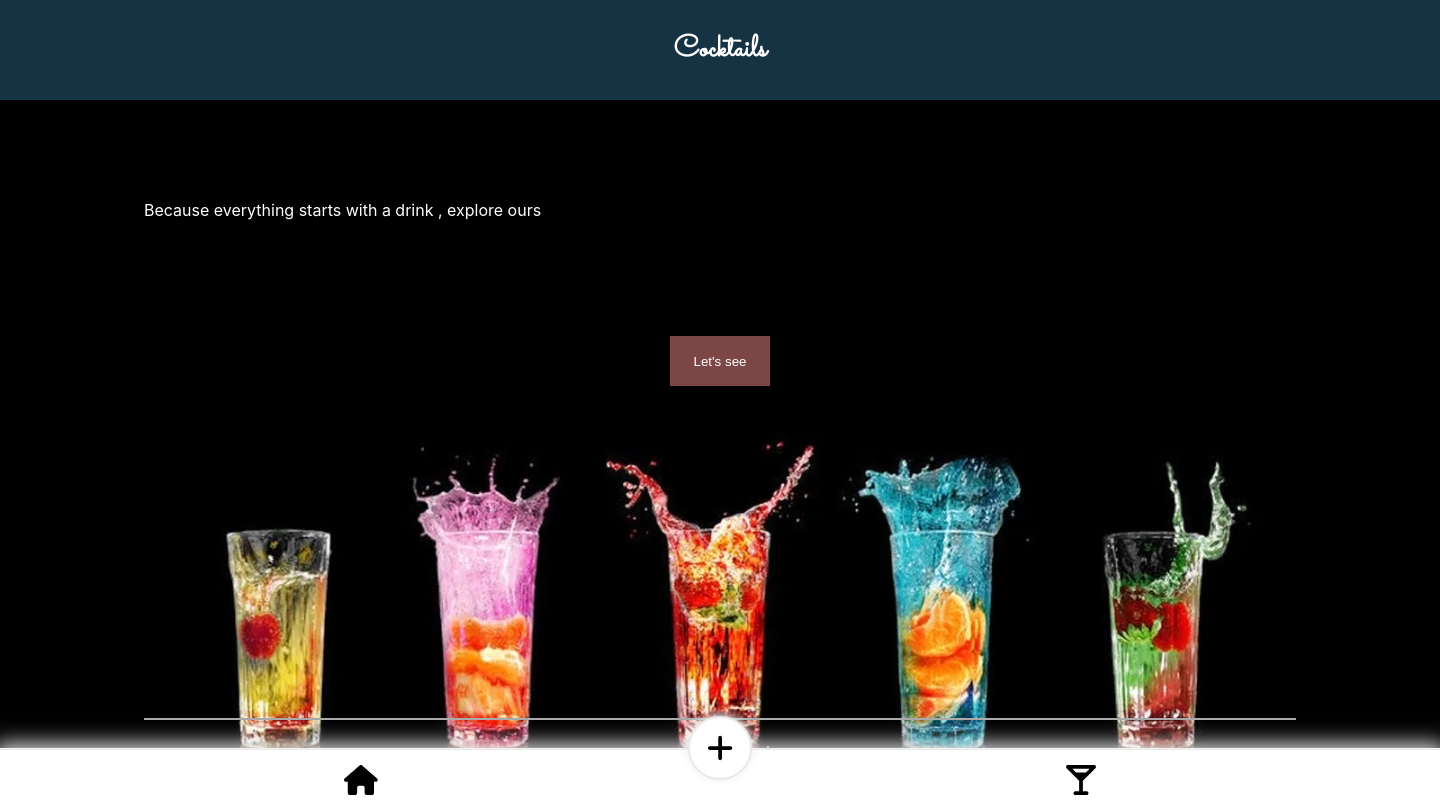
Test: Given App component › When the user taps at 'My Bar' link › Then it should be rendered 'My Bar' heading in the page
This screenshot has width=1440, height=810.
Click the 3rd link named "My Bar": (1081, 785) [1066, 775, 1096, 795]
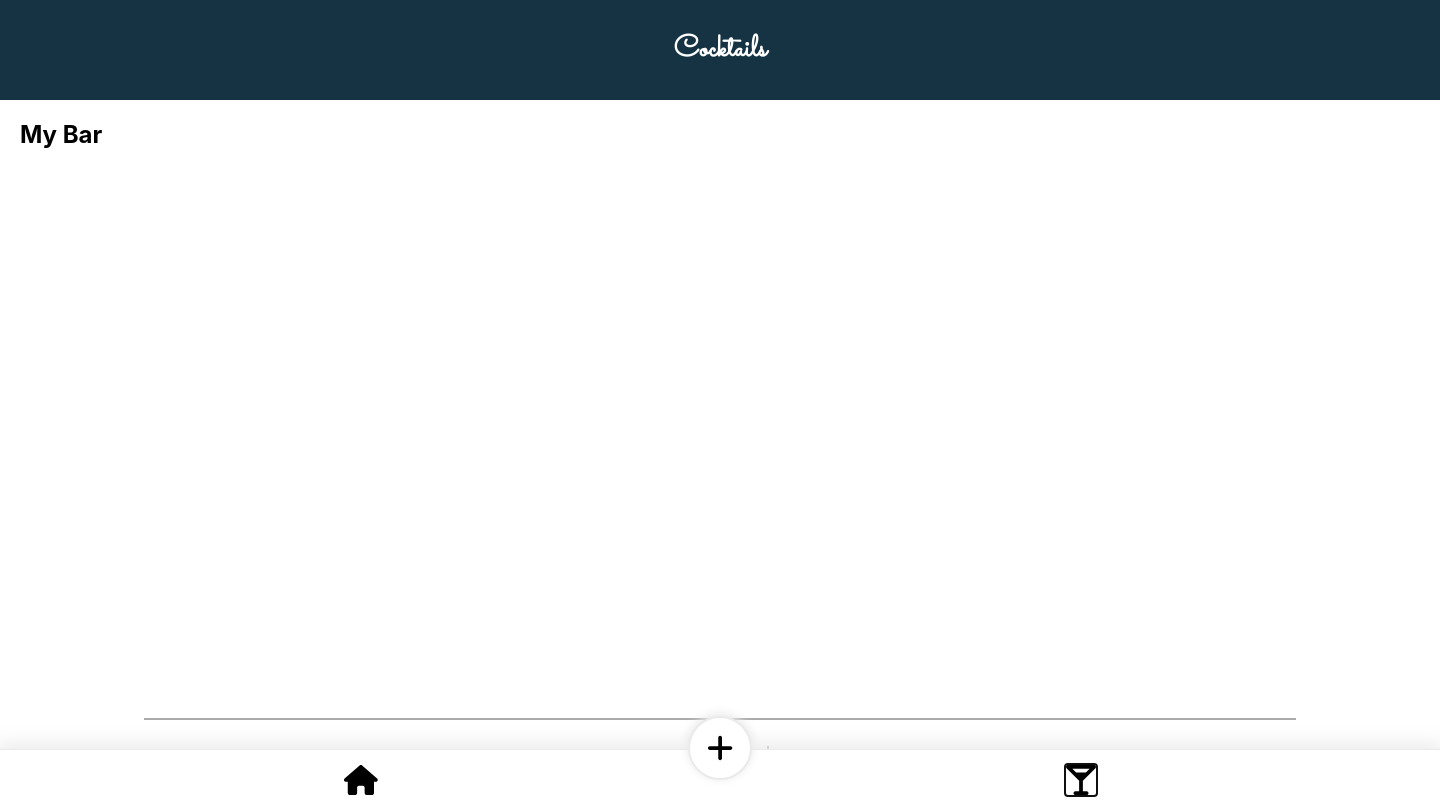
Check: the heading "My Bar" is shown, box [20, 120, 102, 149]
